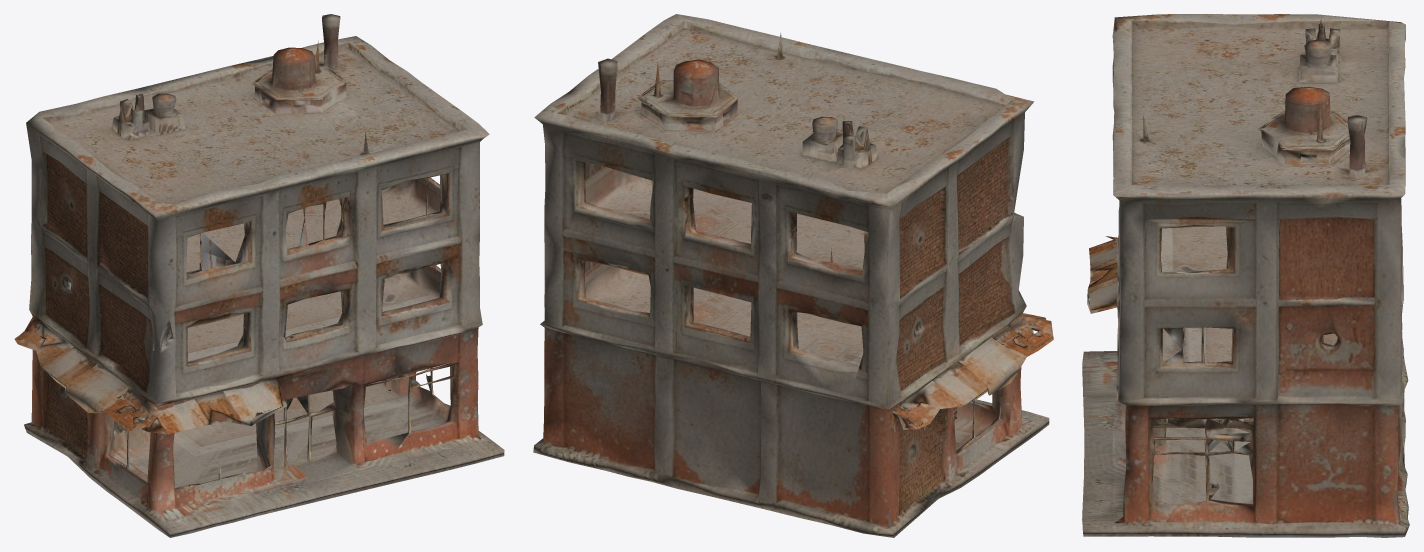
Rendered from Bldg_LowRise.glb.
3 views of the same model, side by side, from view 1: azimuth 30°, elevation 25°; view 2: azimuth 150°, elevation 25°; view 3: azimuth 270°, elevation 25° (orthographic). The views are drawn at different scales.
Parts seen in each view (by area): view 1: texture_mapping; view 2: texture_mapping; view 3: texture_mapping.
Boxes of the visible parts, x1,y1,x2,y2 form: texture_mapping: [14, 14, 504, 537]; texture_mapping: [533, 14, 1053, 537]; texture_mapping: [1082, 14, 1409, 537].
Bounding box in the file's own units: 0.9997 × 0.9586 × 0.7223.
1 material, 1 textured.
